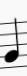note: (4, 17, 20, 69)
